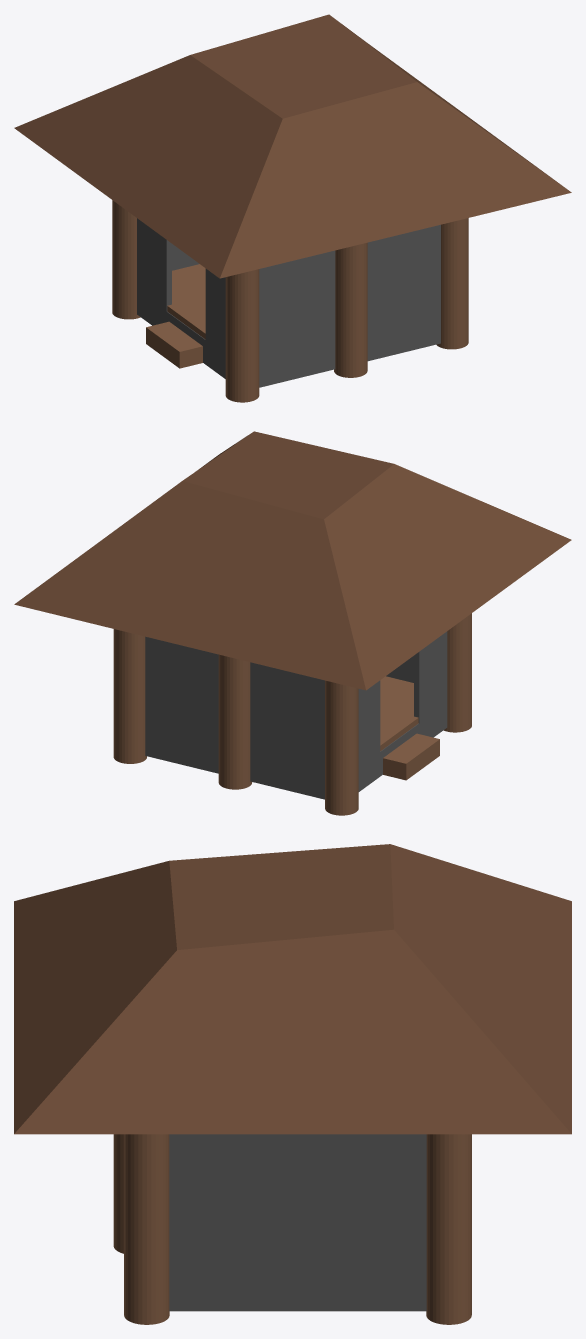
Rendered from prince shop.fbx.
3 views of the same model, one above another, from view 1: azimuth 30°, elevation 25°; view 2: azimuth 150°, elevation 25°; view 3: azimuth 270°, elevation 25° (orthographic). The views are drawn at different scales.
Parts seen in each view (by area): view 1: Cube.009, Cube.004, Cube.003, Cylinder.005, Cylinder.001, Cylinder.003, Cylinder.004, Cube, Cube.001; view 2: Cube.009, Cube.005, Cube.003, Cylinder.004, Cylinder.002, Cylinder, Cylinder.005, Cube, Cube.001; view 3: Cube.009, Cube.002, Cylinder, Cylinder.003, Cylinder.001.
Part boxes in pixels (x1=…): Cube.009: x1=14, y1=14, x2=571, y2=278; Cube.004: x1=259, y1=224, x2=440, y2=387; Cube.003: x1=137, y1=218, x2=225, y2=378; Cylinder.005: x1=225, y1=269, x2=259, y2=402; Cylinder.001: x1=334, y1=242, x2=367, y2=377; Cylinder.003: x1=436, y1=218, x2=468, y2=349; Cylinder.004: x1=112, y1=200, x2=140, y2=319; Cube: x1=167, y1=264, x2=205, y2=339; Cube.001: x1=146, y1=321, x2=202, y2=368; Cube.009: x1=14, y1=431, x2=571, y2=690; Cube.005: x1=145, y1=636, x2=324, y2=799; Cube.003: x1=358, y1=631, x2=447, y2=791; Cylinder.004: x1=325, y1=680, x2=358, y2=815; Cylinder.002: x1=218, y1=654, x2=252, y2=789; Cylinder: x1=113, y1=629, x2=146, y2=763; Cylinder.005: x1=443, y1=613, x2=471, y2=732; Cube: x1=380, y1=676, x2=418, y2=750; Cube.001: x1=383, y1=733, x2=439, y2=780; Cube.009: x1=14, y1=844, x2=571, y2=1134; Cube.002: x1=169, y1=1134, x2=426, y2=1311; Cylinder: x1=426, y1=1134, x2=471, y2=1324; Cylinder.003: x1=124, y1=1134, x2=169, y2=1324; Cylinder.001: x1=113, y1=1134, x2=123, y2=1253.
Size of the model in its own units: 2449 by 2420 by 1766.
